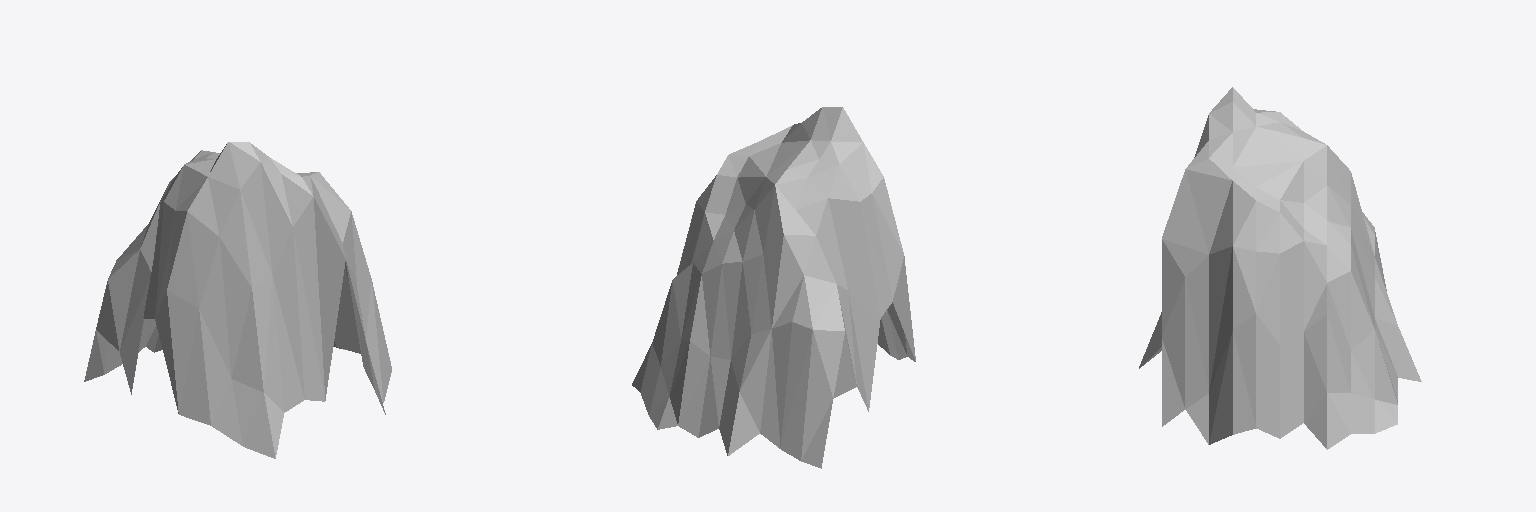
The model's file is tree_37.obj.
The picture shows the model from 3 angles: view 1: azimuth 30°, elevation 25°; view 2: azimuth 150°, elevation 25°; view 3: azimuth 270°, elevation 25°; orthographic projection.
Visible parts, largest first — view 1: tree_37.001; view 2: tree_37.001; view 3: tree_37.001.
Part boxes in pixels (bbox=[...]): tree_37.001: bbox=[84, 142, 391, 458]; tree_37.001: bbox=[632, 107, 915, 468]; tree_37.001: bbox=[1139, 87, 1421, 449].
Bounding box in the file's own units: 11 × 13.46 × 12.